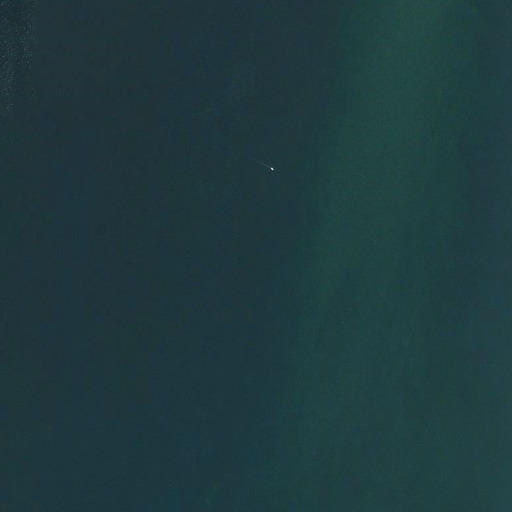ship: (270, 166, 274, 173)
